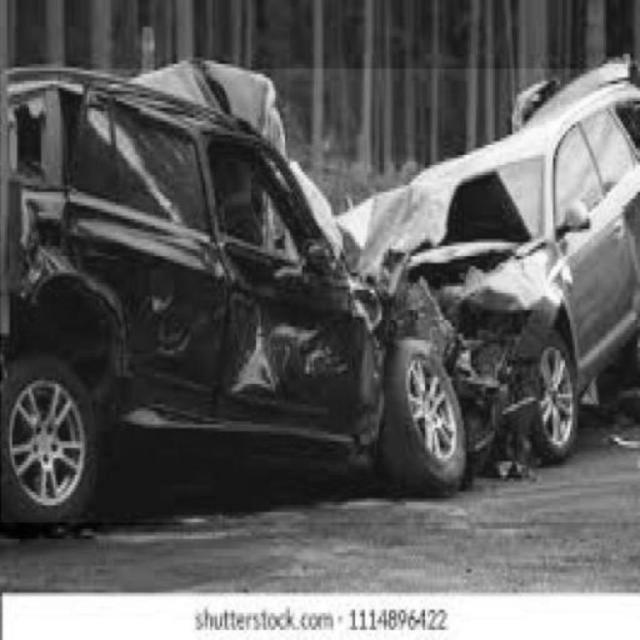accident: (1, 69, 639, 523)
